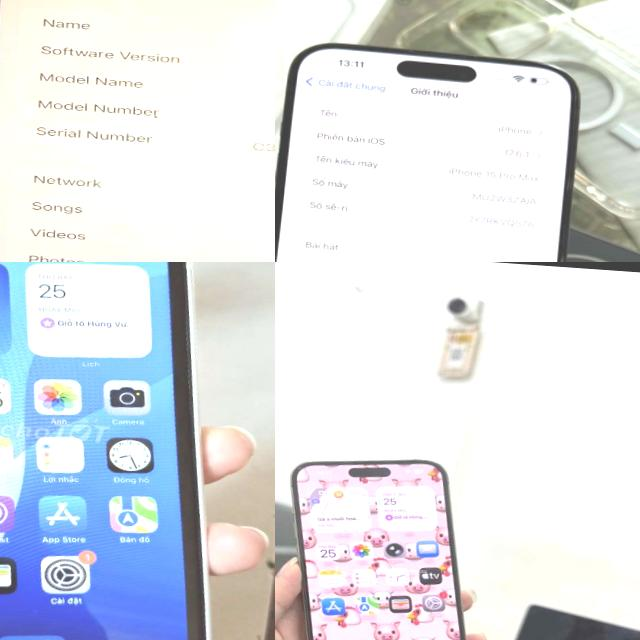gen_14: (275, 448, 494, 640)
gen_15: (275, 28, 606, 262)
gen_7_8: (0, 0, 275, 262)
gen_x_xs: (0, 262, 210, 640)
